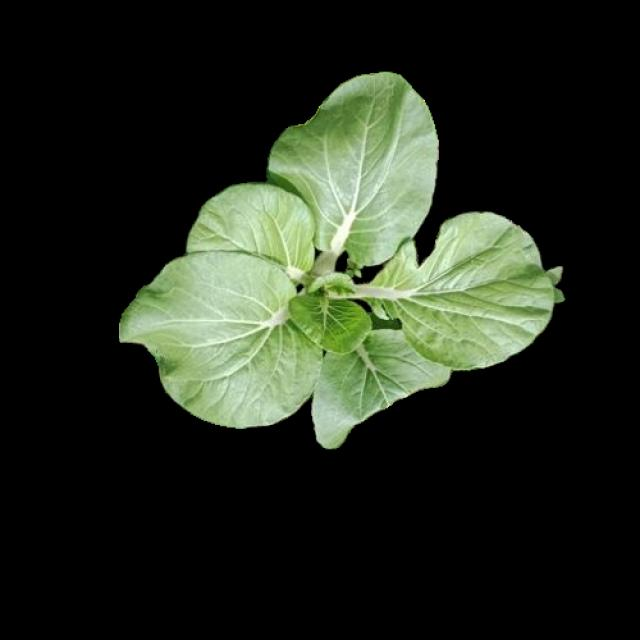healthy: (123, 91, 552, 443)
mature: (120, 77, 554, 445)
